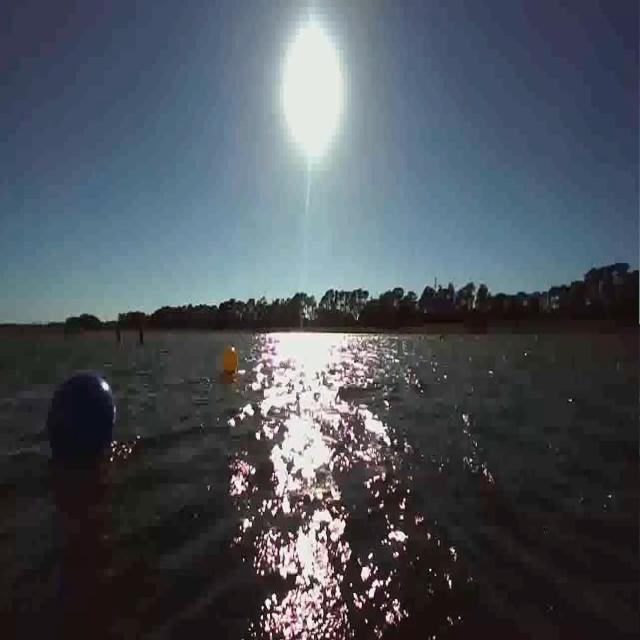blue-buoy: (44, 366, 119, 471)
yellow-buoy: (222, 346, 238, 376)
